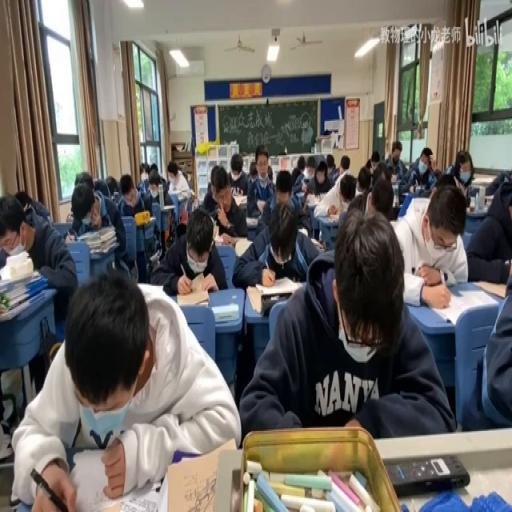calculator: (164, 441, 237, 512), (71, 458, 160, 509), (425, 283, 494, 326), (254, 274, 302, 293), (176, 287, 209, 307), (210, 302, 238, 322), (244, 284, 262, 314), (234, 236, 252, 256), (213, 229, 234, 245), (6, 240, 26, 256), (309, 235, 325, 250), (305, 194, 320, 208), (148, 248, 160, 264), (401, 189, 417, 201), (232, 194, 246, 206), (322, 214, 338, 224), (294, 189, 306, 201), (64, 232, 76, 243), (245, 214, 258, 224), (298, 228, 308, 238), (160, 204, 174, 210), (414, 183, 423, 192), (188, 189, 194, 199), (146, 216, 155, 222)
paper: (13, 266, 237, 509), (238, 206, 448, 438), (0, 192, 77, 320), (391, 179, 467, 299), (150, 206, 226, 294), (70, 176, 129, 278), (461, 170, 512, 281), (479, 266, 511, 429), (258, 168, 306, 233), (402, 144, 438, 199), (346, 168, 381, 218), (115, 171, 148, 219), (198, 162, 224, 218), (302, 158, 336, 199), (166, 161, 192, 202), (384, 141, 407, 185), (226, 152, 248, 196), (145, 161, 167, 196), (290, 154, 306, 186), (330, 154, 348, 182), (456, 155, 472, 185), (14, 189, 32, 212), (434, 174, 456, 189), (104, 175, 119, 196), (74, 171, 92, 186), (248, 159, 258, 178), (421, 148, 431, 163), (139, 162, 149, 176), (266, 164, 272, 180), (66, 212, 74, 222), (365, 158, 371, 171), (372, 155, 378, 168), (386, 161, 393, 169)
person: (386, 452, 470, 494), (261, 292, 293, 314), (208, 205, 219, 219), (225, 222, 234, 229)
